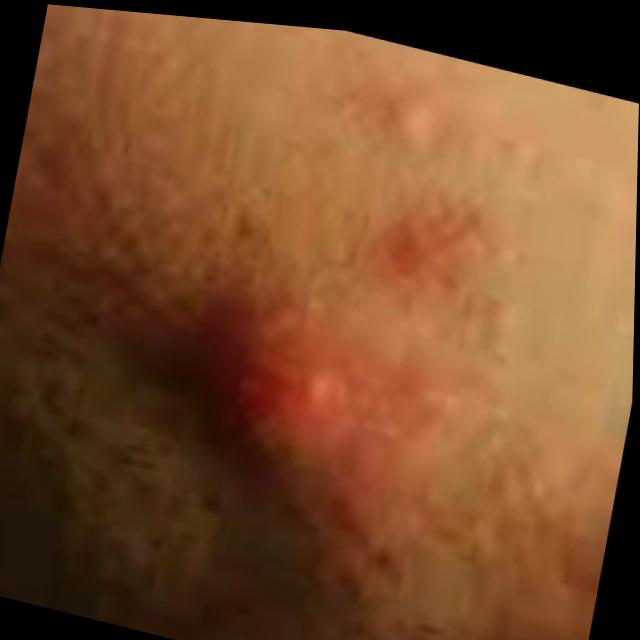nodule: (142, 197, 434, 551)
